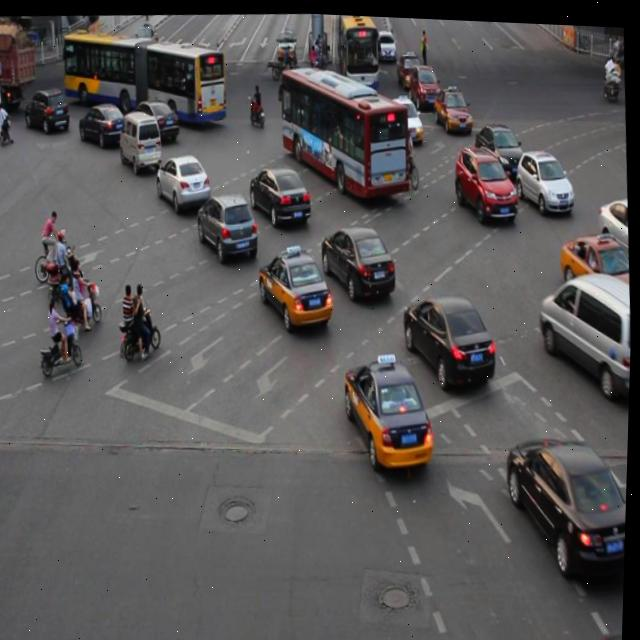car: (504, 425, 631, 577), (342, 350, 438, 467), (400, 284, 499, 388), (257, 240, 336, 329), (319, 218, 399, 299), (558, 224, 634, 309), (452, 138, 520, 221), (195, 187, 261, 263), (249, 161, 313, 228), (514, 142, 575, 211), (155, 149, 212, 212), (472, 116, 526, 179), (595, 188, 633, 268), (128, 94, 182, 144), (78, 99, 128, 148), (431, 81, 473, 133), (388, 92, 425, 144)
truck: (536, 261, 634, 396), (118, 108, 164, 169)
van: (278, 61, 412, 200), (61, 24, 229, 127)
